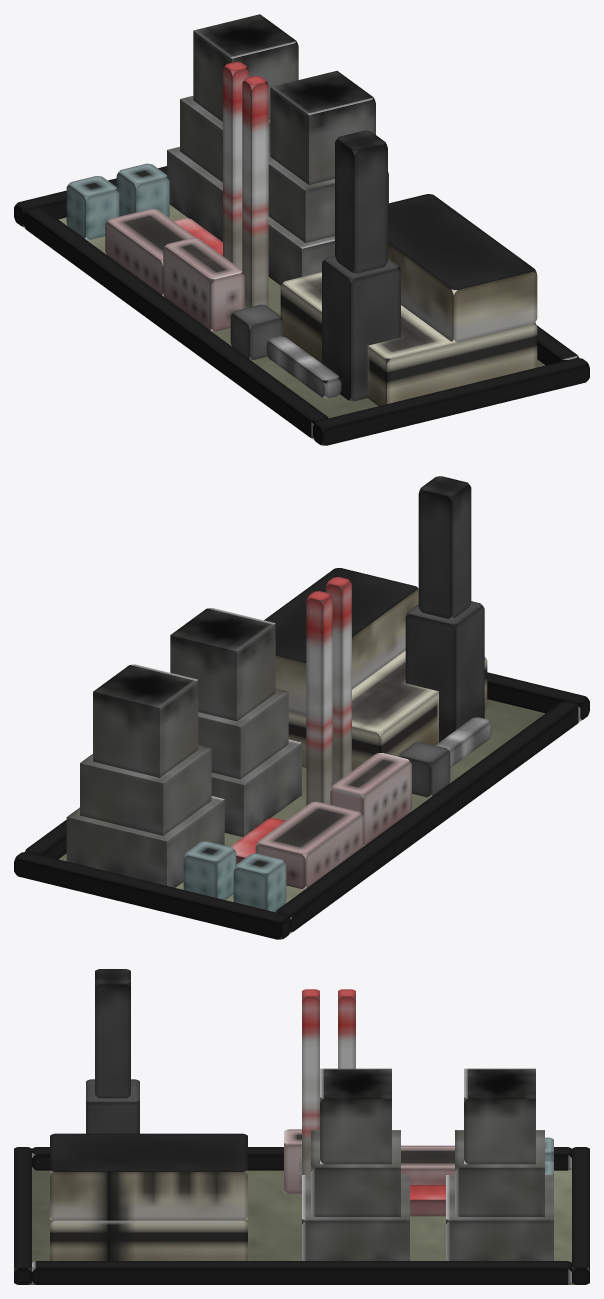
File: coal_power_plant.fbx
3 views of the same model, one above another, from view 1: azimuth 30°, elevation 25°; view 2: azimuth 150°, elevation 25°; view 3: azimuth 270°, elevation 25° (orthographic). The views are drawn at different scales.
Parts seen in each view (by area): view 1: mainbuilding, walls, details, cube_3, cube_1, other_tallthingy, cube_6, cube_7, tallthingy, cube_5, cube, foundation (+7 smaller); view 2: walls, mainbuilding, details, cube_1, cube_3, cube_2, cube, cube_7, tallthingy, cube_5, cube_4, cube_6 (+7 smaller); view 3: mainbuilding, walls, foundation, cube_1, cube_3, details, cube, cube_4, cube_2, cube_5, other_tallthingy, cube_7 (+3 smaller).
Part boxes in pixels (<box>): mainbuilding: <box>280,194,537,405</box>; walls: <box>14,166,589,445</box>; details: <box>322,130,400,401</box>; cube_3: <box>270,70,375,184</box>; cube_1: <box>193,14,298,121</box>; other_tallthingy: <box>242,76,268,308</box>; cube_6: <box>163,238,244,331</box>; cube_7: <box>105,209,195,296</box>; tallthingy: <box>223,62,249,269</box>; cube_5: <box>268,152,388,242</box>; cube: <box>167,147,222,241</box>; foundation: <box>22,204,545,445</box>; walls: <box>14,672,589,939</box>; mainbuilding: <box>264,568,487,770</box>; details: <box>405,476,484,742</box>; cube_1: <box>93,664,198,777</box>; cube_3: <box>170,608,275,721</box>; cube_2: <box>80,745,211,835</box>; cube: <box>66,796,224,887</box>; cube_7: <box>255,801,363,889</box>; tallthingy: <box>306,591,332,805</box>; cube_5: <box>198,688,288,779</box>; cube_4: <box>211,739,301,836</box>; cube_6: <box>330,753,411,845</box>; mainbuilding: <box>50,1133,247,1260</box>; walls: <box>14,1147,589,1284</box>; foundation: <box>14,1167,589,1284</box>; cube_1: <box>464,1068,535,1164</box>; cube_3: <box>320,1068,391,1164</box>; details: <box>86,969,139,1133</box>; cube: <box>446,1175,553,1260</box>; cube_4: <box>302,1175,409,1260</box>; cube_2: <box>455,1130,544,1216</box>; cube_5: <box>311,1130,400,1216</box>; other_tallthingy: <box>302,989,319,1174</box>; cube_7: <box>401,1145,454,1184</box>.
Size of the model in its own units: 500 by 438 by 1000.
1 material, 1 textured.
